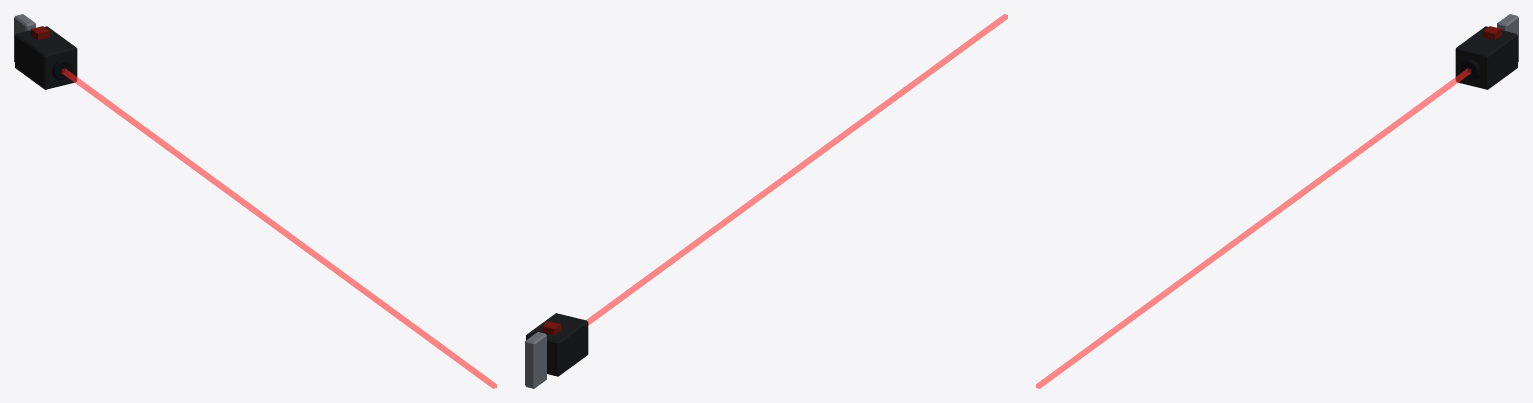
The model's file is diffuse_sensor.glb.
The picture shows the model from 3 angles, left to right: view 1: azimuth 30°, elevation 25°; view 2: azimuth 150°, elevation 25°; view 3: azimuth 330°, elevation 25°; orthographic projection.
Visible parts, largest first — view 1: SensorBeam, Sensor_Static; view 2: SensorBeam, Sensor_Static; view 3: SensorBeam, Sensor_Static.
Part boxes in pixels (left/top/right/bottom): SensorBeam: left=62, top=68, right=496, bottom=388; Sensor_Static: left=14, top=14, right=77, bottom=89; SensorBeam: left=586, top=14, right=1007, bottom=325; Sensor_Static: left=525, top=313, right=588, bottom=388; SensorBeam: left=1036, top=68, right=1470, bottom=388; Sensor_Static: left=1455, top=14, right=1518, bottom=89.
Size of the model in its own units: 0.045 by 0.0605 by 1.1.
